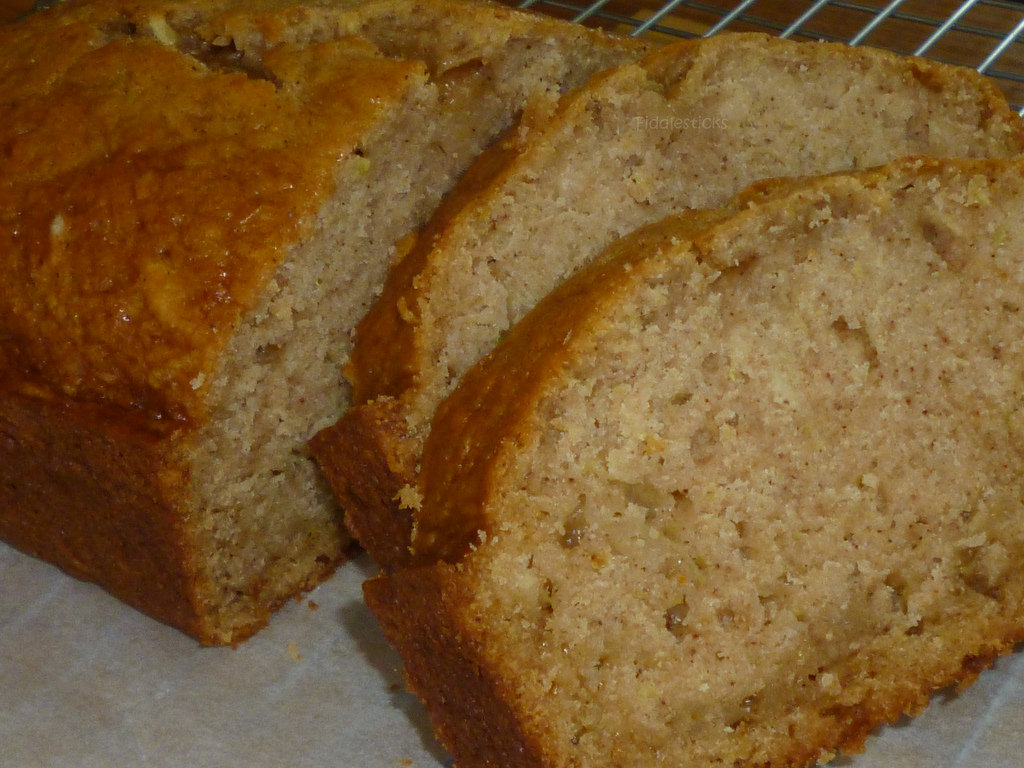slice of bread: (29, 11, 1011, 697), (300, 29, 1005, 754), (361, 163, 1012, 737)
